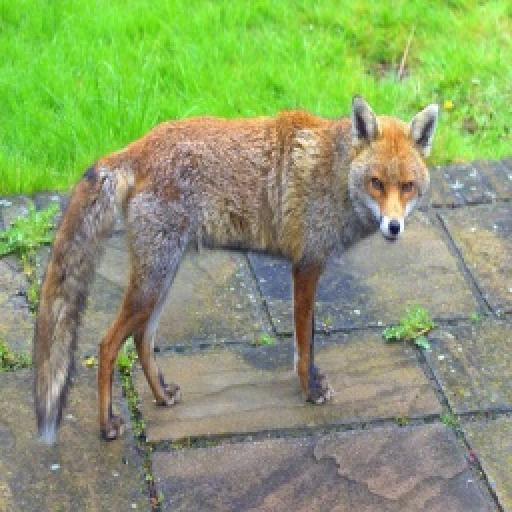zorro: (34, 96, 438, 442)
